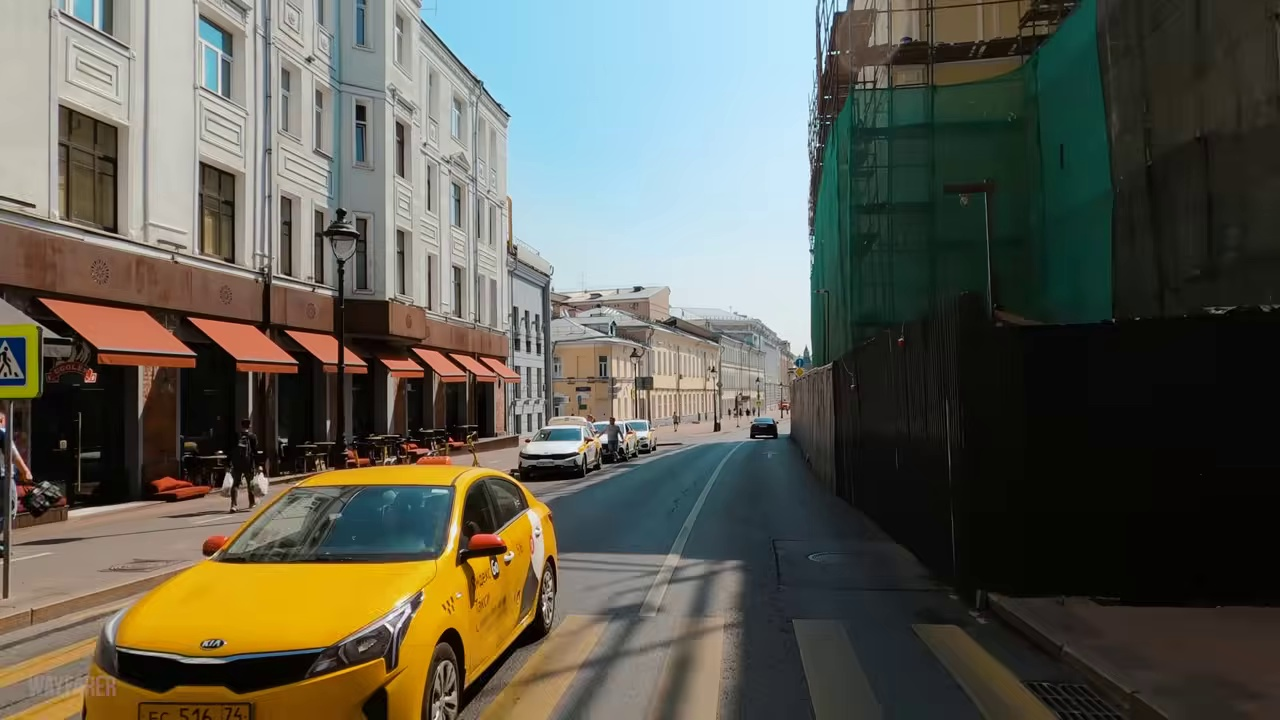apagada: (320, 220, 364, 264)
